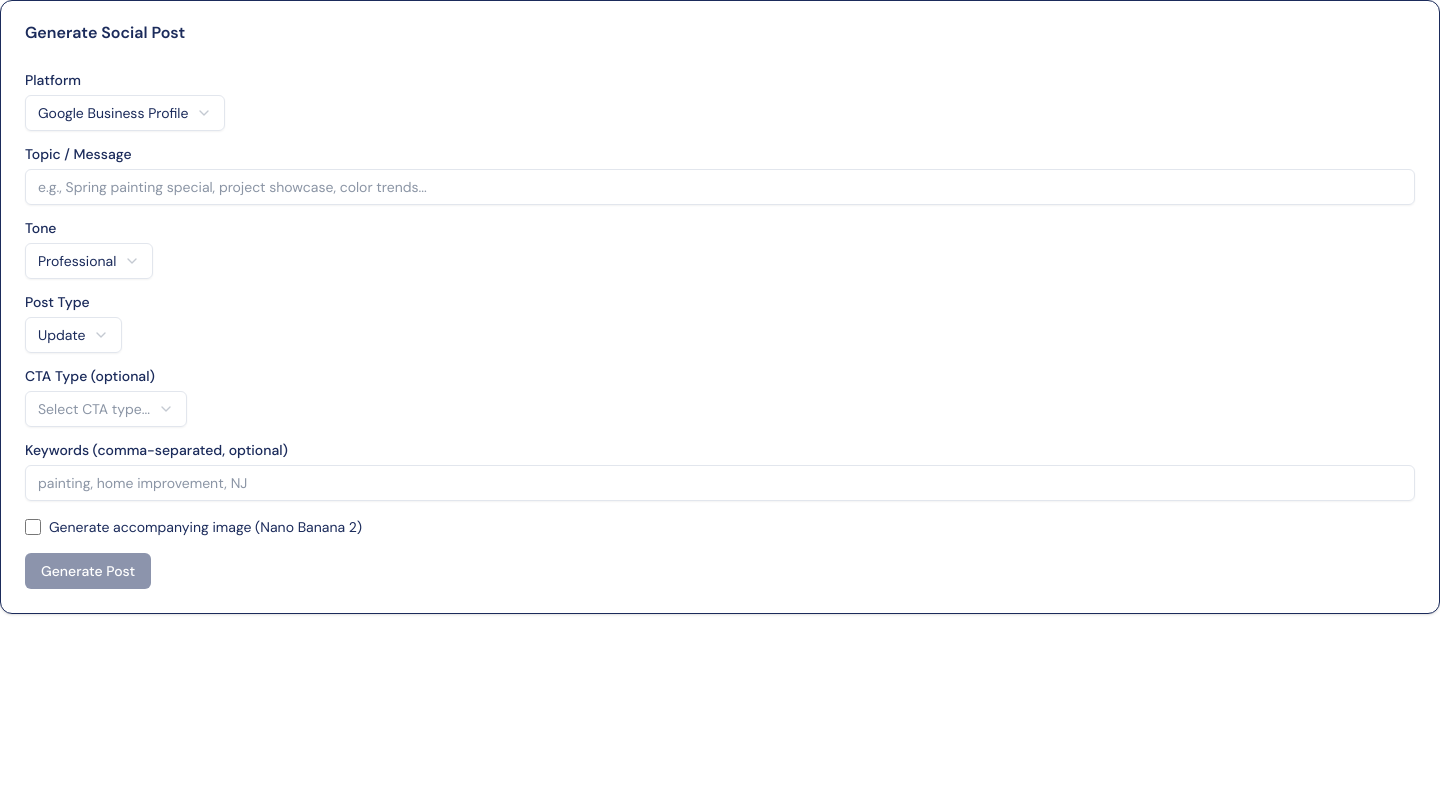
Test: SocialGenerateForm › enables submit button when topic is filled
In the field labelled "Topic / Message": (720,187) [25,169,1415,205], type "Spring painting special"
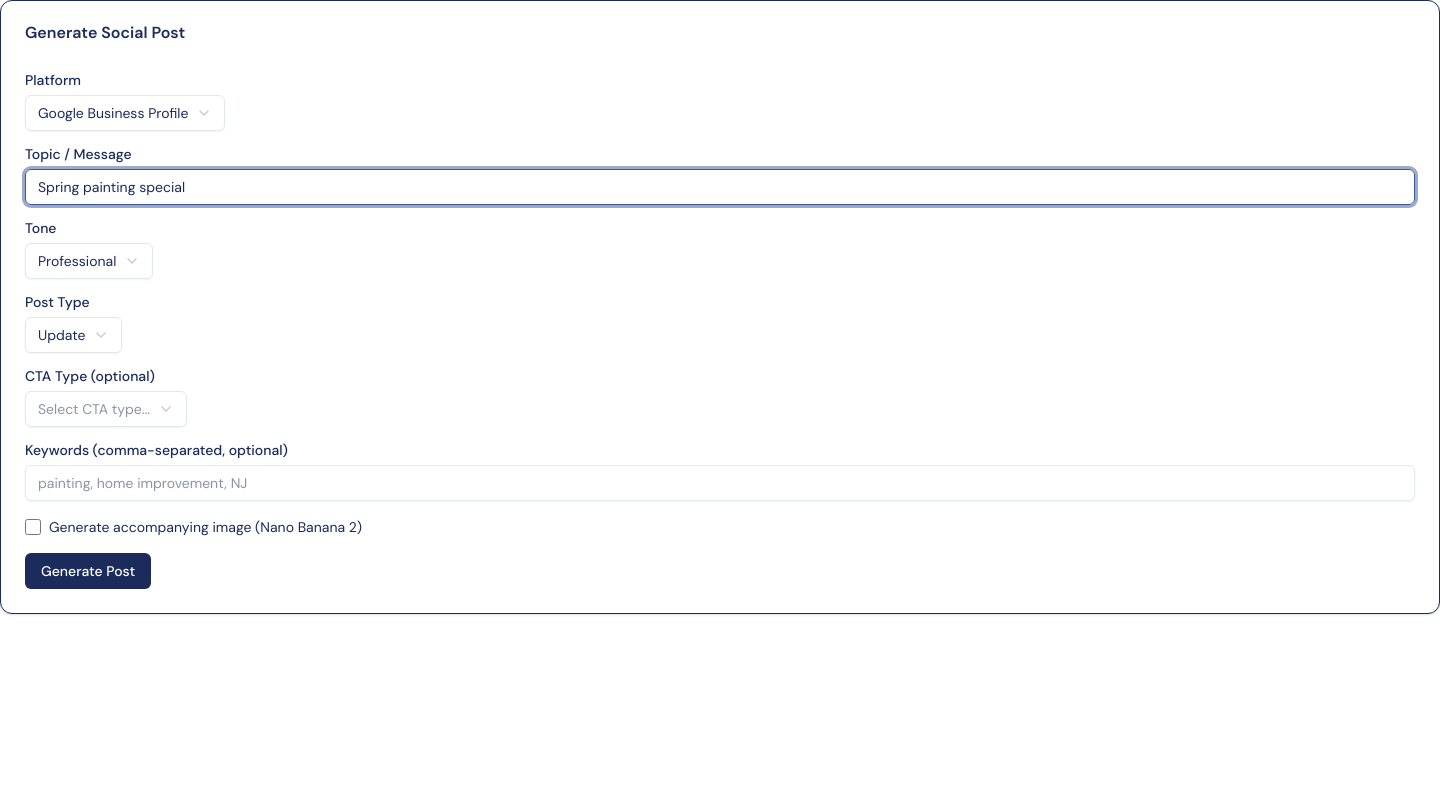
Result: the button "Generate Post" is enabled at [25,553,151,589]
